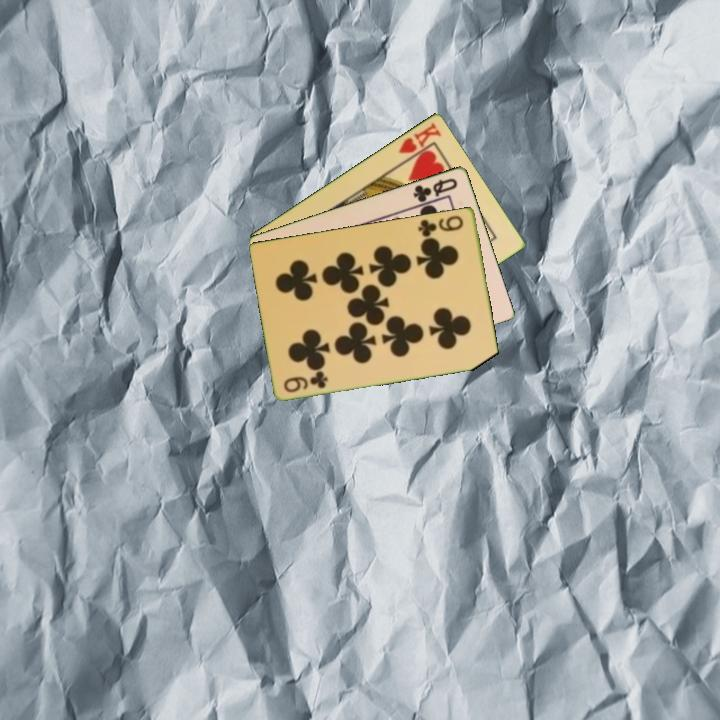9c: (415, 212, 466, 240), (281, 368, 331, 395)
Kh: (395, 118, 445, 165)
Qc: (410, 174, 461, 205)
